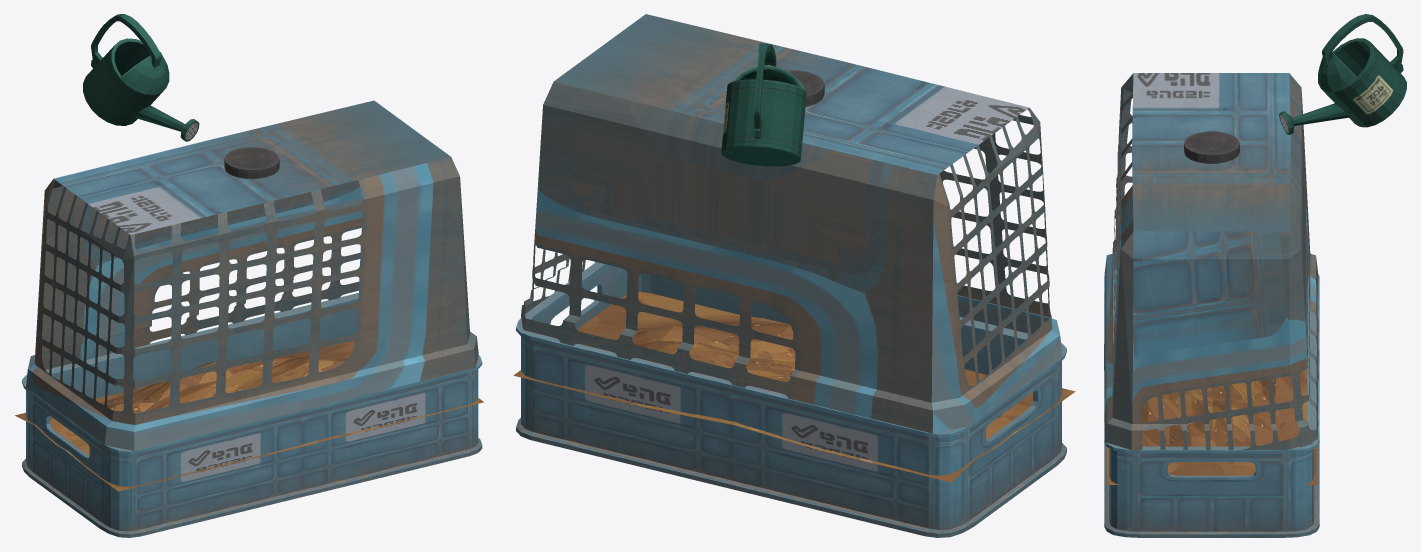
File: P_Baowen02.obj
3 renders of one model, left to right at view 1: azimuth 30°, elevation 25°; view 2: azimuth 150°, elevation 25°; view 3: azimuth 270°, elevation 25°, orthographic. The views are drawn at different scales.
Bounding box in the file's own units: 2.03 × 2.07 × 1.41.
4 materials, 4 textured.
